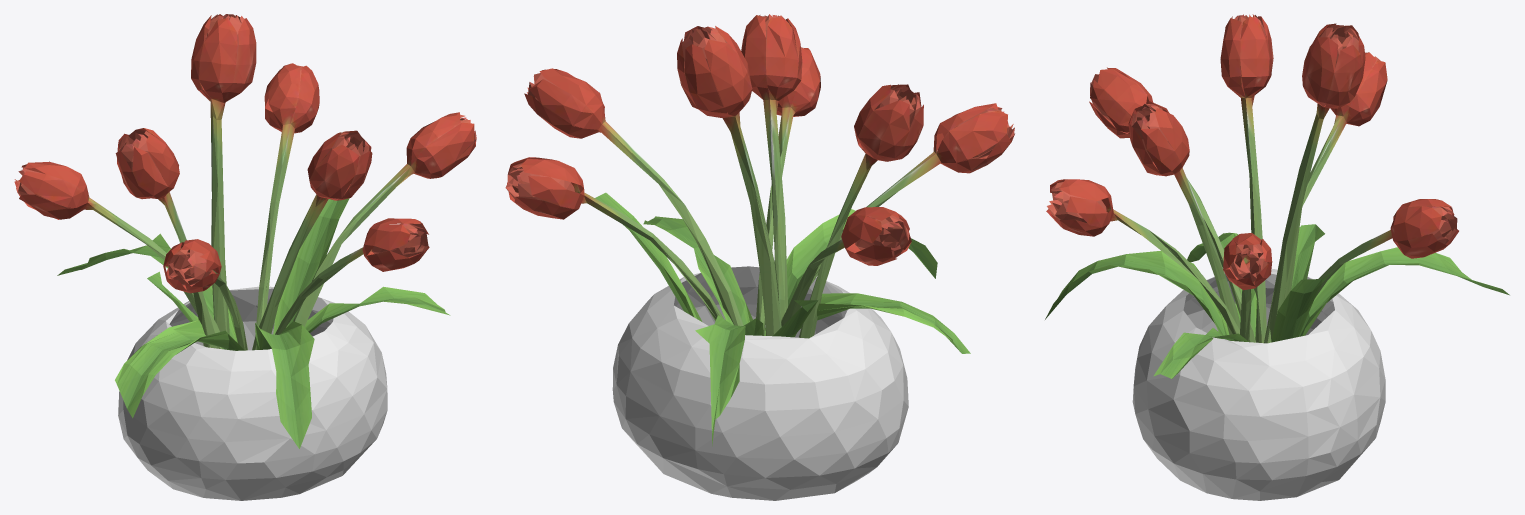
File: sh-bsby-tulip.glb
3 renders of one model, left to right at view 1: azimuth 30°, elevation 25°; view 2: azimuth 150°, elevation 25°; view 3: azimuth 270°, elevation 25°, orthographic. The views are drawn at different scales.
Parts seen in each view (by area): view 1: Circle.008_Circle.004, Circle_Circle.001, Plane.013_Plane.002; view 2: Circle_Circle.001, Circle.008_Circle.004, Plane.013_Plane.002; view 3: Circle_Circle.001, Circle.008_Circle.004, Plane.013_Plane.002.
Part boxes in pixels (x1=…): Circle.008_Circle.004: x1=14, y1=14, x2=476, y2=350; Circle_Circle.001: x1=118, y1=286, x2=387, y2=500; Plane.013_Plane.002: x1=57, y1=198, x2=450, y2=448; Circle_Circle.001: x1=612, y1=266, x2=908, y2=500; Circle.008_Circle.004: x1=505, y1=14, x2=1014, y2=338; Plane.013_Plane.002: x1=595, y1=192, x2=970, y2=446; Circle_Circle.001: x1=1132, y1=269, x2=1385, y2=500; Circle.008_Circle.004: x1=1046, y1=14, x2=1458, y2=343; Plane.013_Plane.002: x1=1045, y1=224, x2=1509, y2=378.
Bounding box in the file's own units: 0.9931 × 0.9979 × 0.9521.
Materials: 3 (2 with a texture image).
